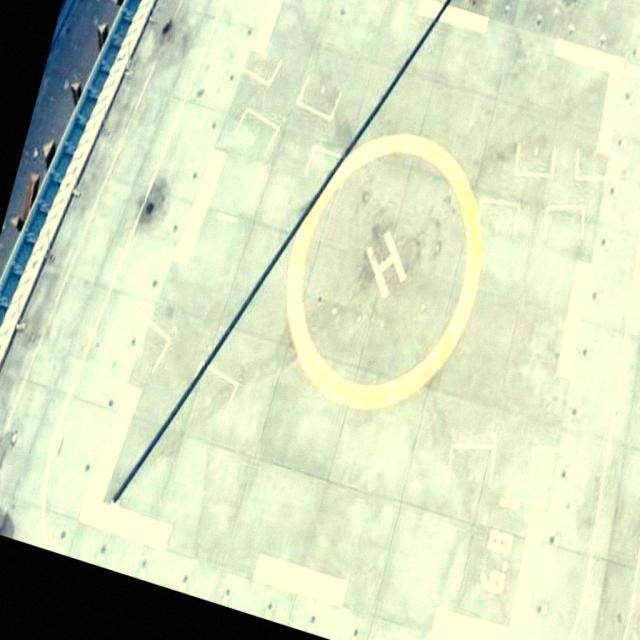helipad: (279, 129, 485, 415)
